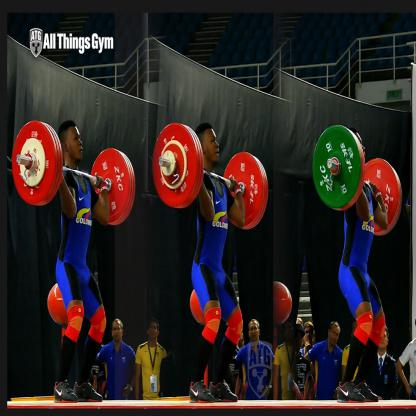Barbell: (149, 114, 205, 216), (312, 123, 368, 216), (10, 117, 65, 210)
